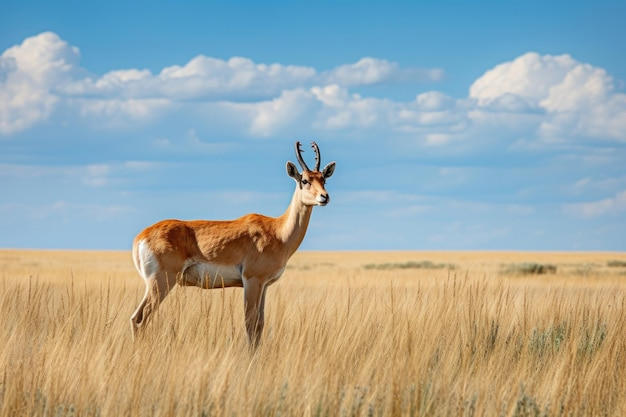saiga: (126, 163, 328, 325)
